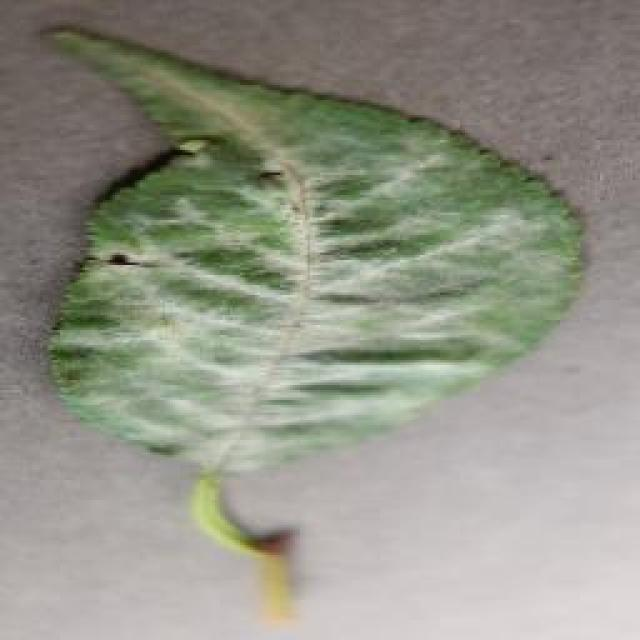Cherry___Powdery_mildew: (30, 8, 598, 632)
